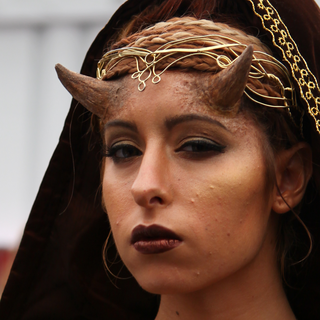eye: (167, 133, 228, 161), (100, 139, 144, 163)
